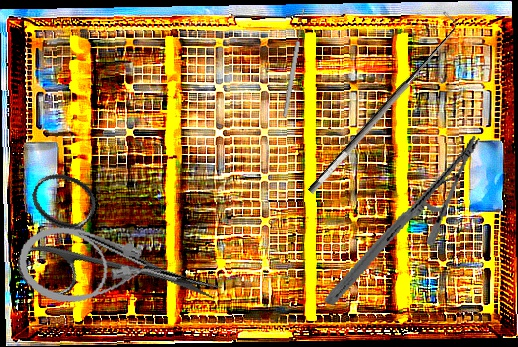Cannula: (12, 218, 166, 320)
Hook Surgical: (294, 10, 467, 197)
Iris Scissors: (3, 167, 240, 347)
Needle Holder: (322, 111, 484, 330)
Surgical Spoon: (282, 8, 307, 118)
